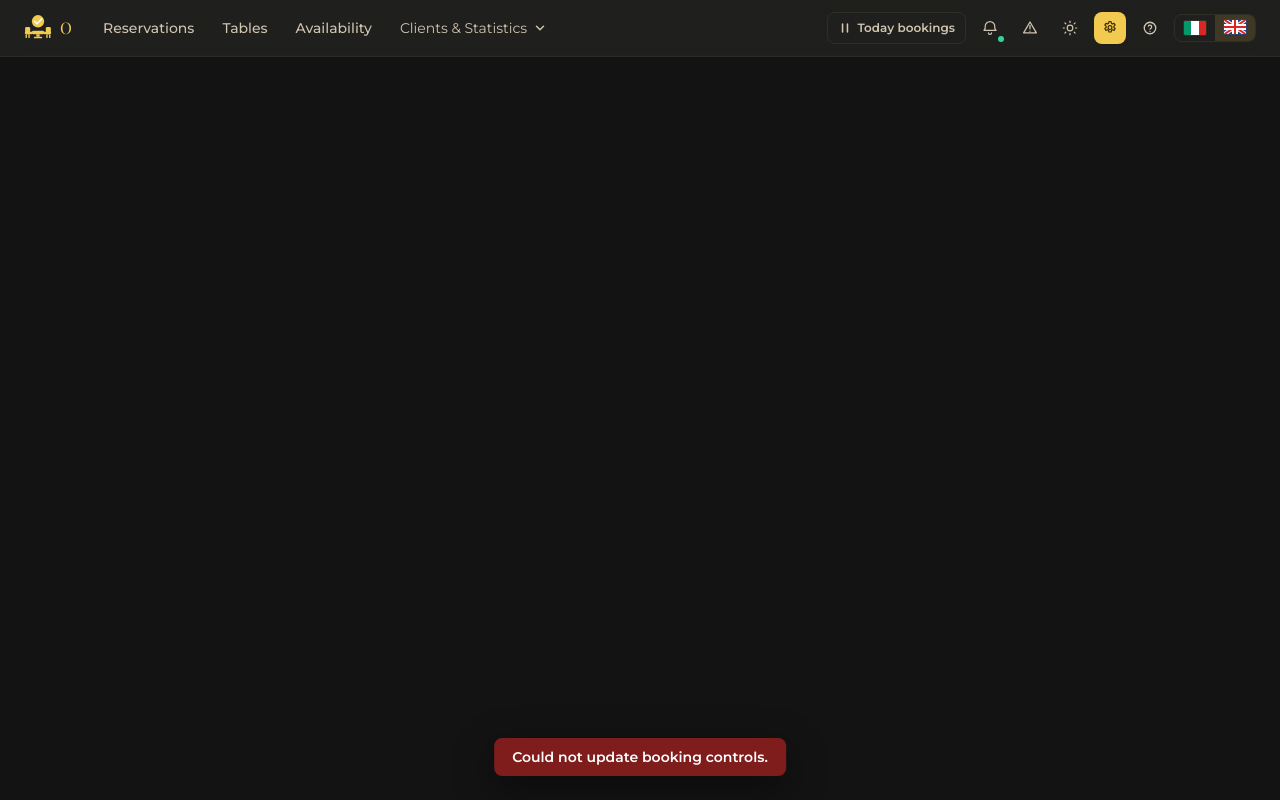
Scenario: AdminShell › opens tenant settings menu from the gear before the language switch
This screenshot has width=1280, height=800.
Expected: the element with test id "language-flag-it" is shown, [1183,20,1207,36]
Expected: the element with test id "language-flag-en" is shown, [1223,19,1247,35]
Click the button named "Settings" at x=1110, y=28, box [1094,12,1126,44]
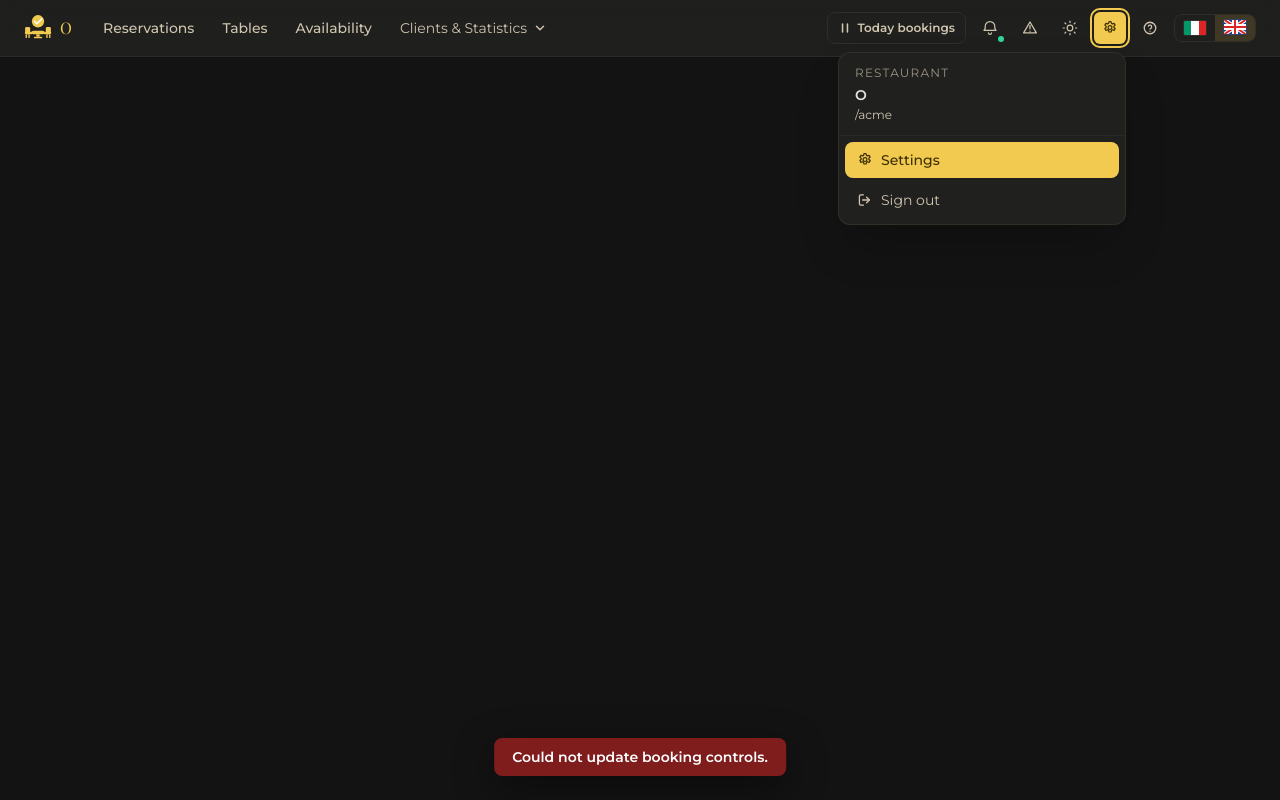
Expected: the text "Restaurant" is shown, [855,65,949,80]
Expected: the text "/acme" is shown, [855,107,892,122]
Expected: the button "Sign out" is shown, [845,182,1119,218]
